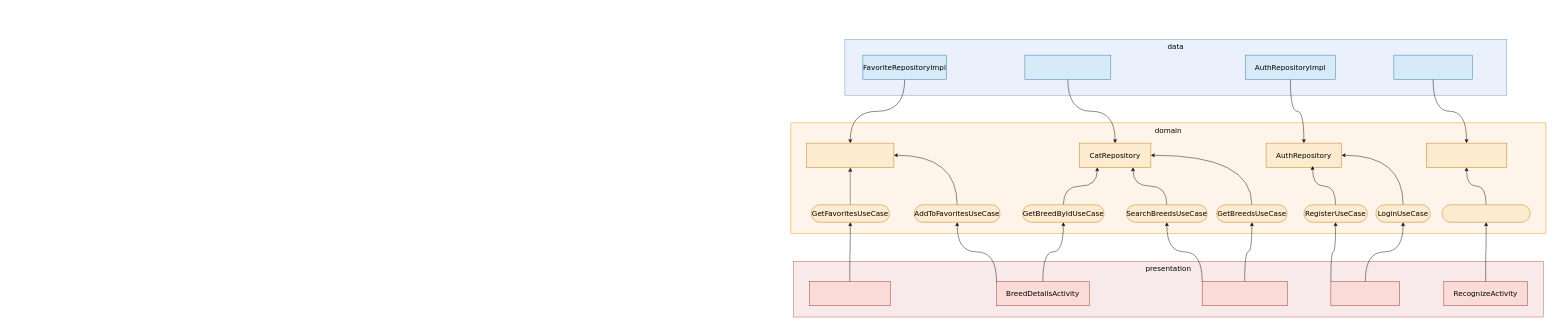
The diagram is 1554 pixels wide and 325 high, and some of its shapes have lost their labels. Each missing label, with the centre of its shape:
"BreedRecognizer" belongs at point 1466,155.
"BreedRecognizerImpl" belongs at point 1432,67.
"BreedsListActivity" belongs at point 1244,293.
"CatRepositoryImpl" belongs at point 1067,67.
"FavoriteRepository" belongs at point 850,155.
"FavoritesActivity" belongs at point 849,293.
"LoginActivity" belongs at point 1365,293.
"RecognizeBreedUseCase" belongs at point 1486,213.
